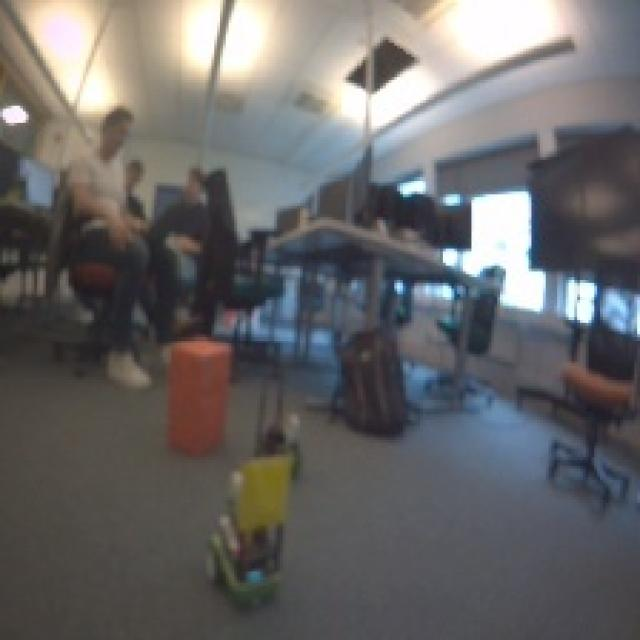robot: (200, 520, 288, 609), (252, 424, 306, 477)
target: (163, 332, 234, 457)
